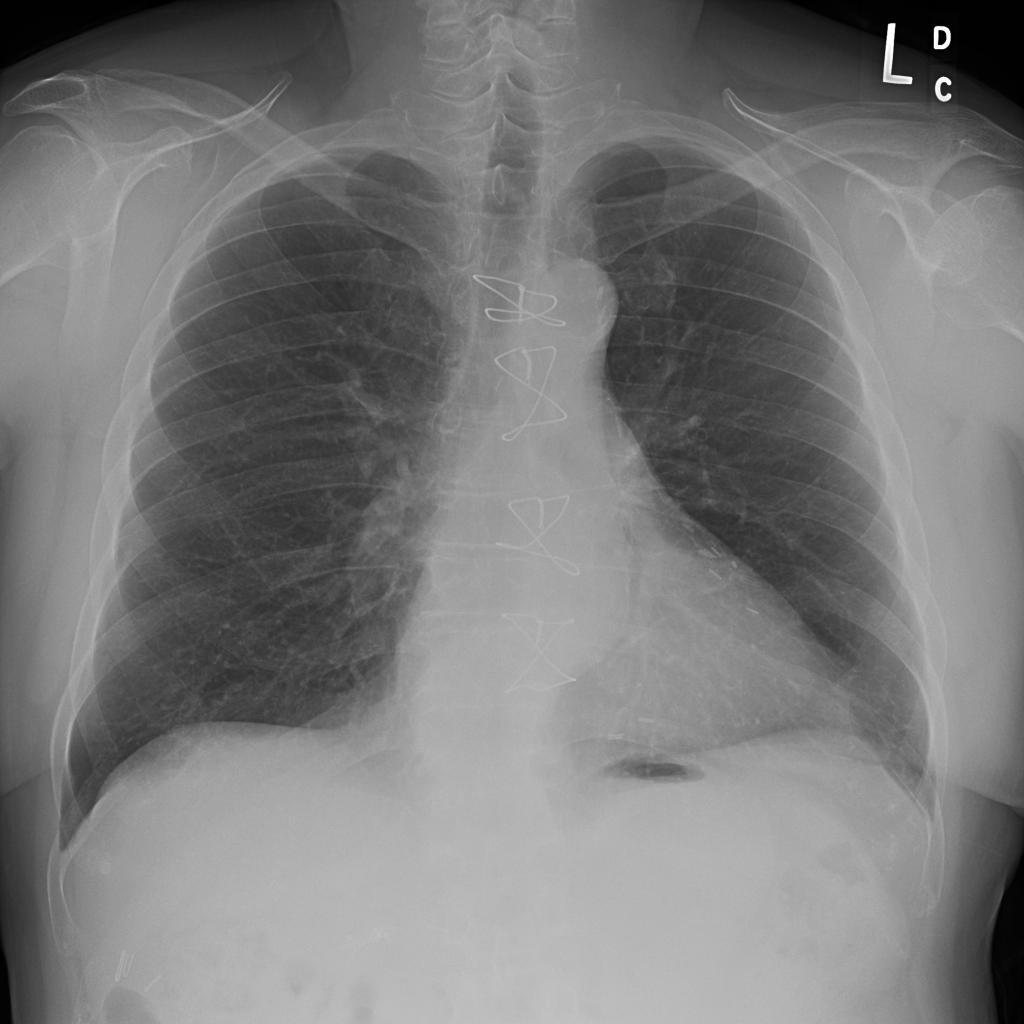Nodule: (386, 261, 422, 303)
